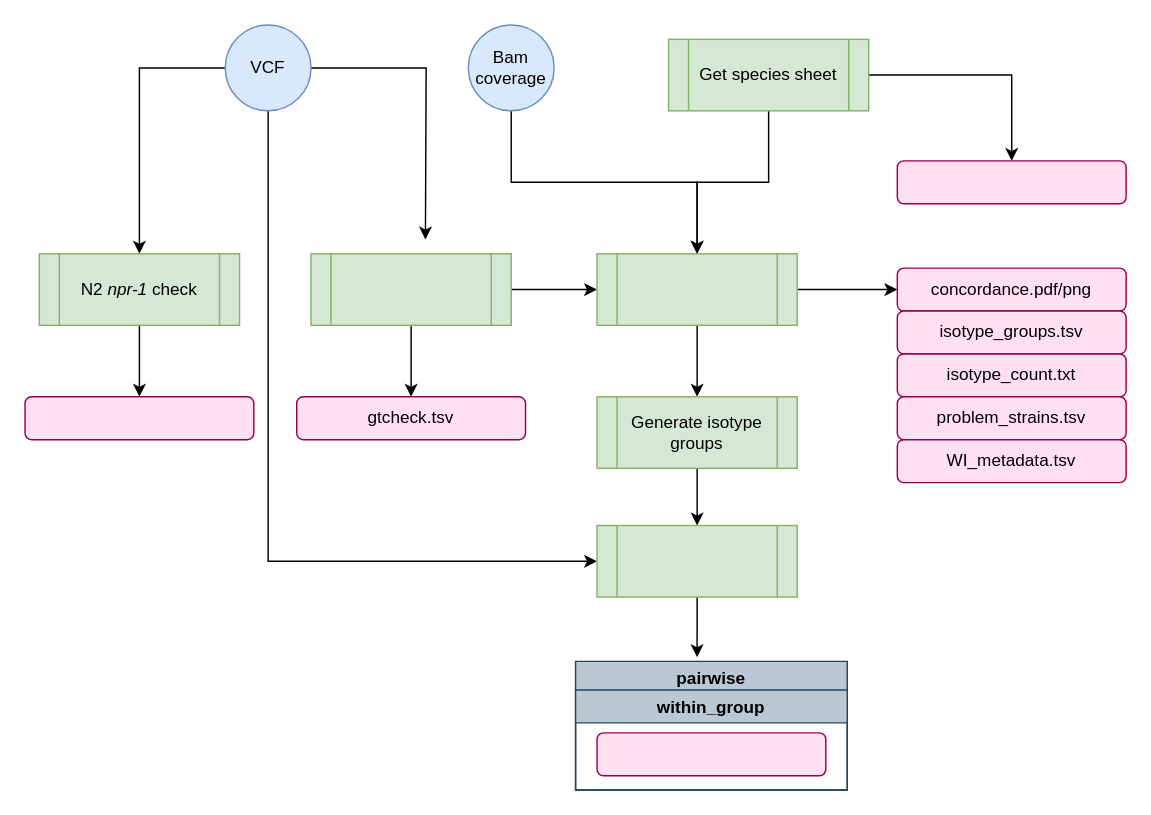
Some shapes in this 1151 by 815 pixel diagram are drawn without their labels. The shapes that lost their labels are listed below. From the top down, each one's centre as x and y in pixels, then its label:
At [1011,181]: "*_species_sheet.tsv".
At [410,288]: "Calculate concordance".
At [696,288]: "Process concordance".
At [139,417]: "npr1_allele_strain.tsv".
At [696,560]: "Within group pairwise plots".
At [711,753]: "pairwise/within_group/*.png".
